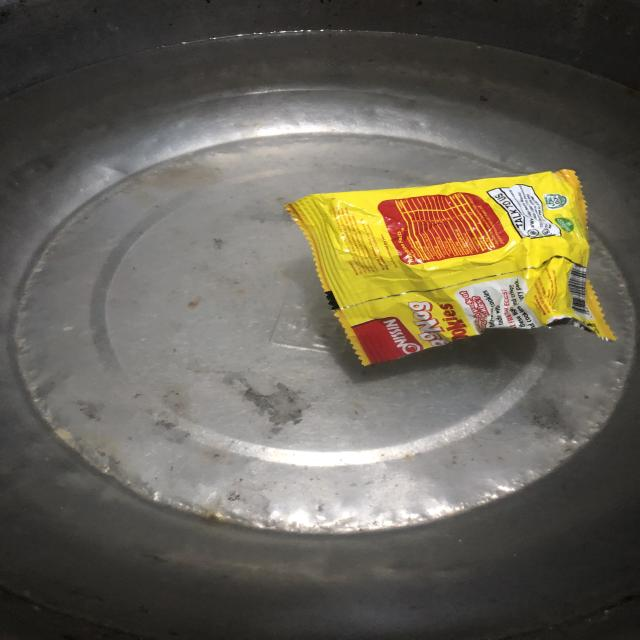Plastic Wrapper: (280, 164, 634, 372)
